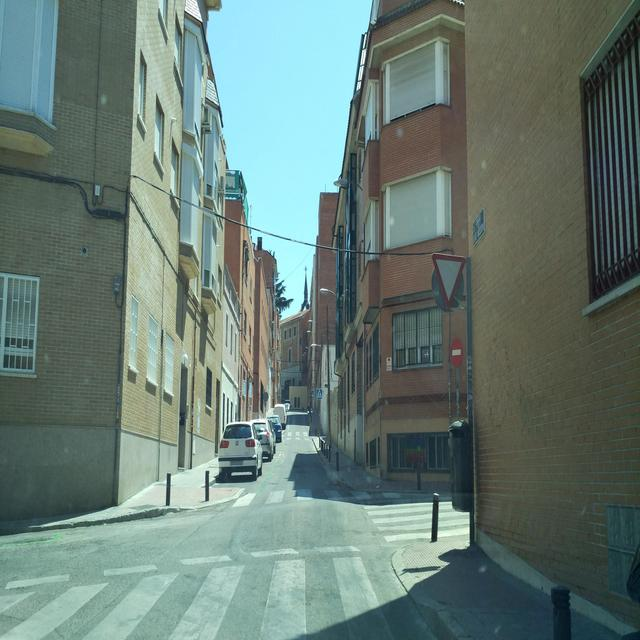Billboard: (193, 398, 200, 454), (386, 356, 391, 371)
Car: (218, 400, 291, 482)
Trash Can: (447, 420, 470, 512)
Vegetation: (276, 271, 293, 317)
